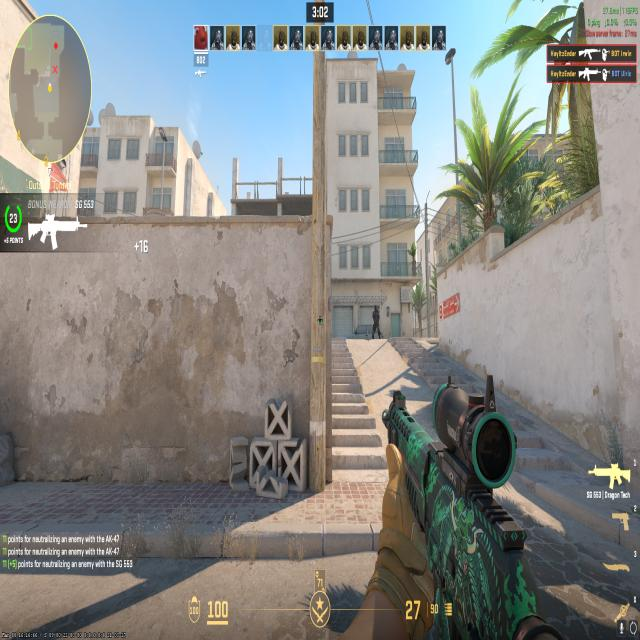ct: (369, 299, 383, 342)
